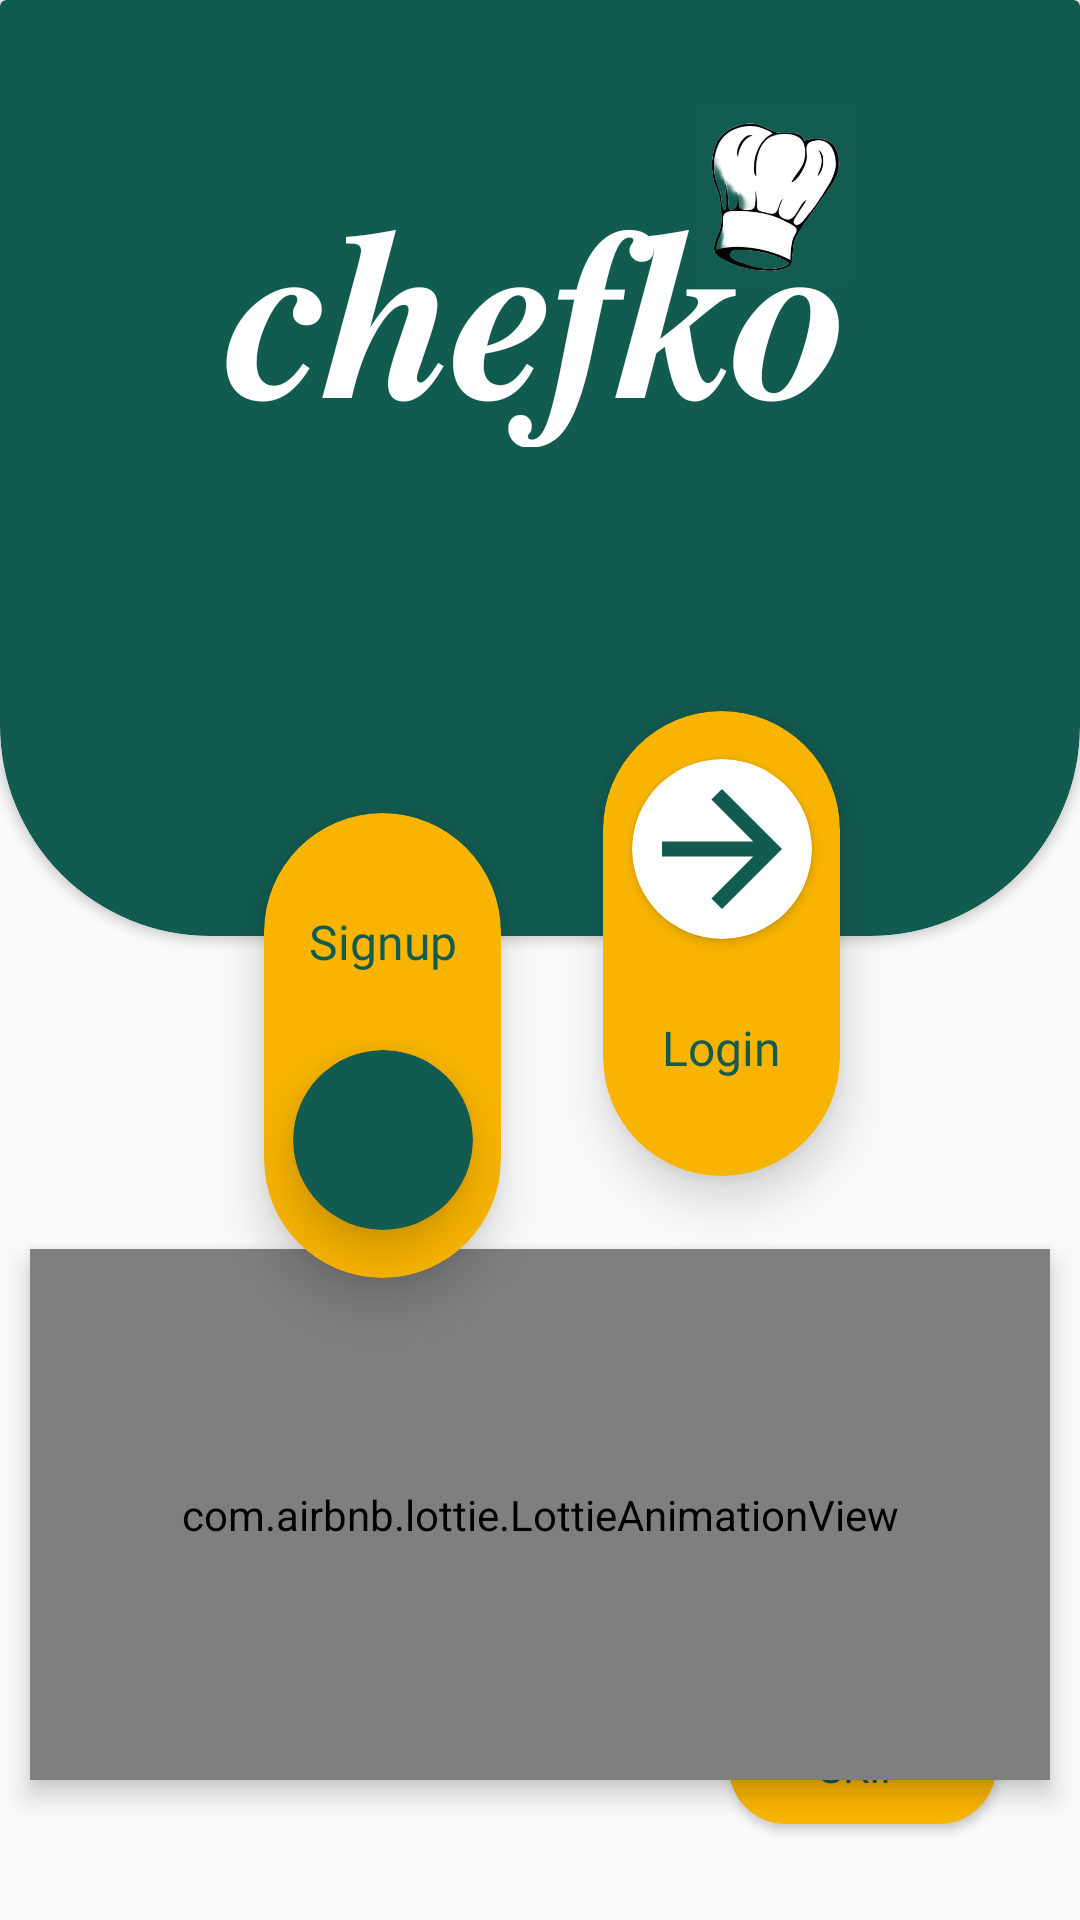

Named icons in this screenshot (1080x1920) and their bounding boxes, BBox(x1, y1, x2, y2):
arrow: BBox(632, 759, 812, 939)
mychef: BBox(712, 123, 839, 271)
